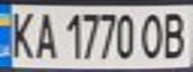0: (115, 10, 139, 61)
1: (60, 9, 81, 60)
7: (78, 9, 100, 61), (97, 9, 118, 61)
A: (30, 8, 60, 60)
B: (157, 8, 193, 61)
K: (3, 7, 39, 61)
O: (139, 9, 169, 61)
